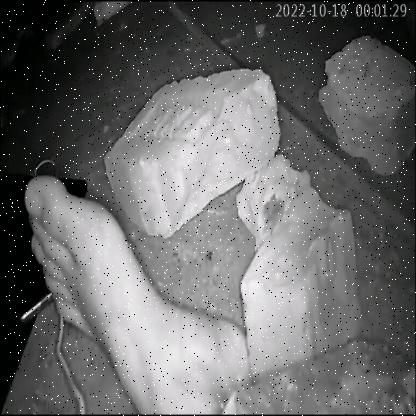leg: (10, 160, 272, 416)
